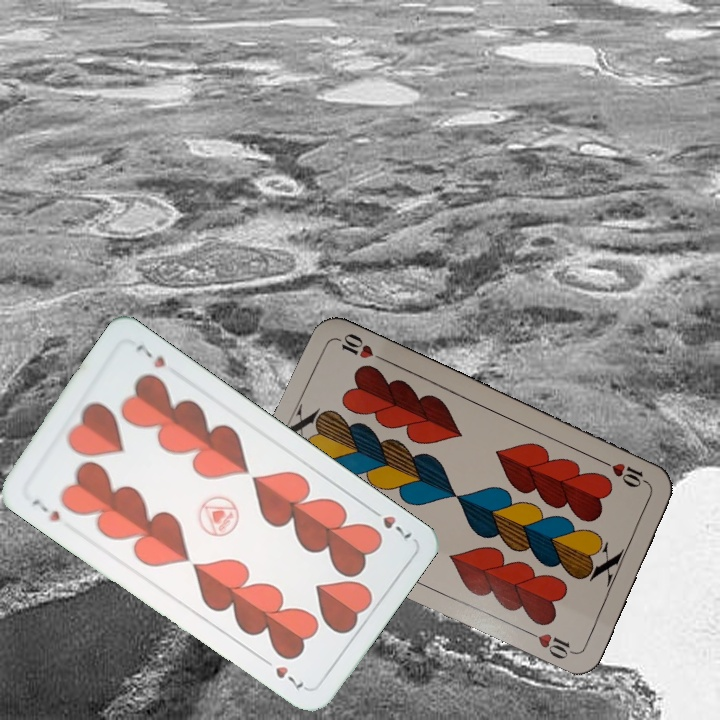H10: (598, 456, 653, 490)
H7: (364, 502, 414, 542), (28, 494, 63, 525)
